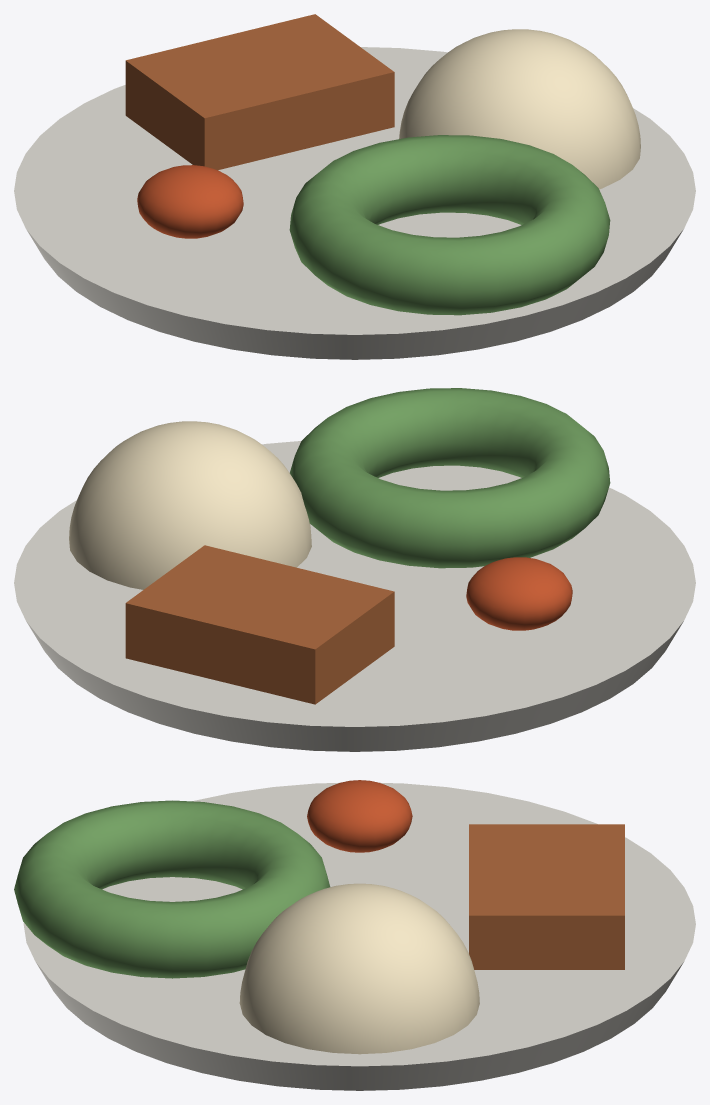
3 views of the same model, one above another, from view 1: azimuth 30°, elevation 25°; view 2: azimuth 150°, elevation 25°; view 3: azimuth 270°, elevation 25° (orthographic).
Visible parts, largest first — view 1: plate, part_salada, part_proteina, part_carboidrato, part_molho_guarnicao; view 2: plate, part_salada, part_proteina, part_carboidrato, part_molho_guarnicao; view 3: plate, part_salada, part_carboidrato, part_proteina, part_molho_guarnicao.
Part boxes in pixels (bbox=[...]): plate: bbox=[14, 47, 695, 359]; part_salada: bbox=[289, 135, 610, 315]; part_proteina: bbox=[125, 14, 394, 170]; part_carboidrato: bbox=[399, 29, 640, 189]; part_molho_guarnicao: bbox=[137, 165, 243, 238]; plate: bbox=[14, 441, 695, 751]; part_salada: bbox=[290, 388, 610, 568]; part_proteina: bbox=[125, 545, 394, 704]; part_carboidrato: bbox=[69, 421, 311, 589]; part_molho_guarnicao: bbox=[466, 557, 572, 630]; plate: bbox=[23, 782, 695, 1090]; part_salada: bbox=[14, 800, 330, 978]; part_carboidrato: bbox=[239, 883, 479, 1054]; part_proteina: bbox=[469, 824, 624, 969]; part_molho_guarnicao: bbox=[307, 780, 412, 852].
Size of the model in its own units: 0.28 by 0.065 by 0.284.
